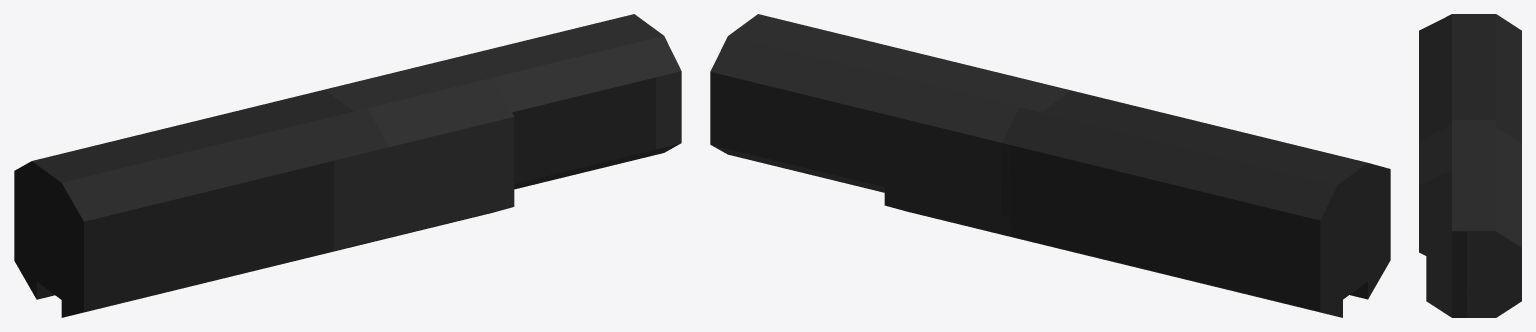
The model's file is pistol_suppressor.obj.
The picture shows the model from 3 angles, left to right: view 1: azimuth 30°, elevation 25°; view 2: azimuth 150°, elevation 25°; view 3: azimuth 270°, elevation 25°; orthographic projection. The views are drawn at different scales.
Visible parts, largest first — view 1: suppressor_1, suppressor, suppressor_2; view 2: suppressor_2, suppressor, suppressor_1; view 3: suppressor, suppressor_1, suppressor_2.
Boxes of the visible parts, bbox=[...] form: suppressor_1: bbox=[61, 36, 681, 317]; suppressor: bbox=[31, 14, 663, 299]; suppressor_2: bbox=[14, 161, 54, 299]; suppressor_2: bbox=[710, 36, 1342, 317]; suppressor: bbox=[728, 14, 1367, 302]; suppressor_1: bbox=[1350, 163, 1390, 299]; suppressor: bbox=[1452, 14, 1496, 317]; suppressor_1: bbox=[1419, 14, 1451, 317]; suppressor_2: bbox=[1496, 14, 1521, 317].
Size of the model in its own units: 7 by 1.5 by 1.4.
